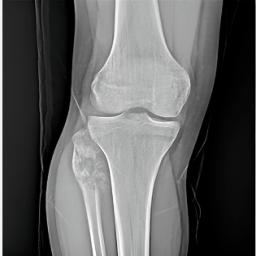cancer: (69, 127, 109, 199)
